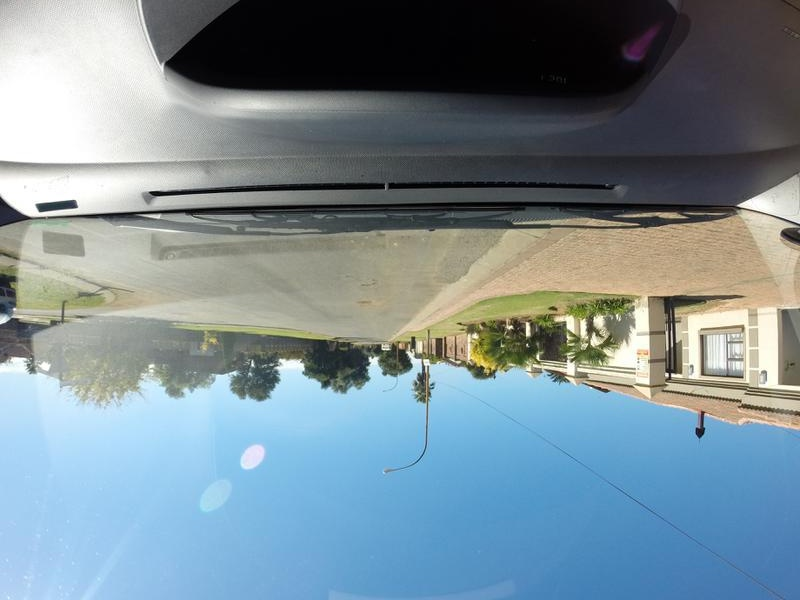pothole: (340, 292, 378, 312)
